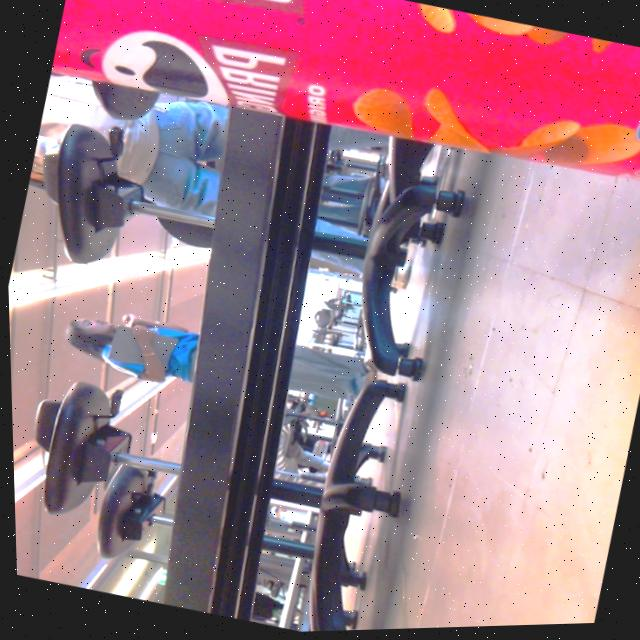redpringles: (42, 0, 640, 244)
